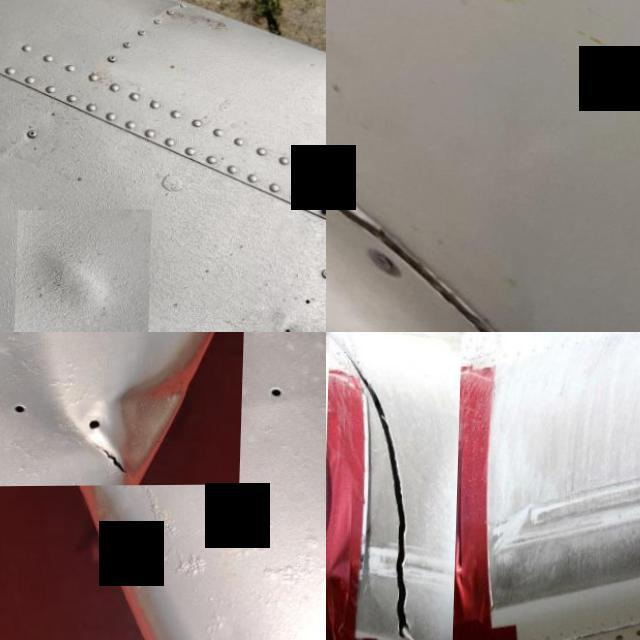Crack: (326, 332, 461, 640), (326, 105, 498, 297), (76, 432, 150, 490)
Dent: (0, 332, 246, 486), (16, 209, 153, 332), (217, 292, 326, 332)
